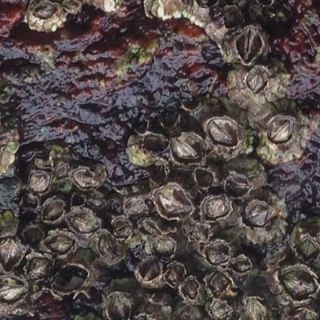Barnacle: (280, 268, 319, 304), (206, 114, 240, 145), (155, 186, 188, 217), (171, 136, 202, 165), (201, 193, 229, 223), (239, 31, 263, 62), (247, 201, 273, 229), (0, 274, 24, 303), (268, 118, 294, 144), (25, 256, 52, 281), (29, 0, 57, 23), (0, 240, 23, 268), (71, 211, 97, 235), (107, 293, 131, 319), (29, 170, 53, 195), (205, 243, 231, 266), (74, 166, 97, 191), (47, 232, 73, 254), (207, 270, 229, 296), (98, 235, 118, 263), (226, 175, 252, 196), (249, 68, 268, 96), (42, 198, 65, 221), (140, 260, 161, 282), (195, 168, 214, 192), (166, 262, 185, 285), (158, 236, 177, 257), (192, 223, 211, 243), (245, 299, 264, 319), (222, 8, 240, 29), (114, 218, 133, 237), (301, 238, 319, 258), (182, 279, 200, 299), (230, 256, 251, 273), (210, 303, 231, 319), (63, 0, 82, 13), (237, 0, 253, 11)
